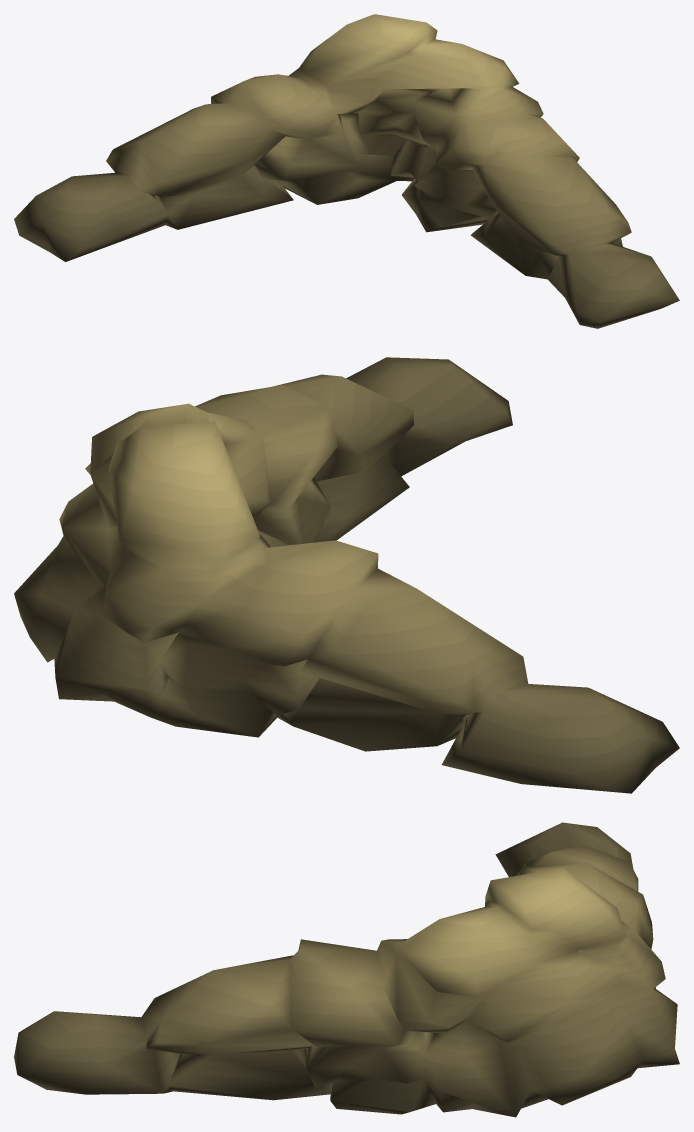
3 renders of one model, top to bottom at view 1: azimuth 30°, elevation 25°; view 2: azimuth 150°, elevation 25°; view 3: azimuth 270°, elevation 25°, orthographic. The views are drawn at different scales.
Parts seen in each view (by area): view 1: SB4.col; view 2: SB4.col; view 3: SB4.col.
Boxes of the visible parts, x1,y1,x2,y2 form: SB4.col: (14, 14, 679, 328); SB4.col: (14, 357, 679, 793); SB4.col: (14, 822, 679, 1117).
Bounding box in the file's own units: 2.98 × 0.9304 × 3.21.
Materials: 1 (1 with a texture image).
